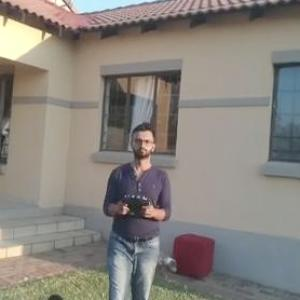follow: (98, 115, 178, 299)
